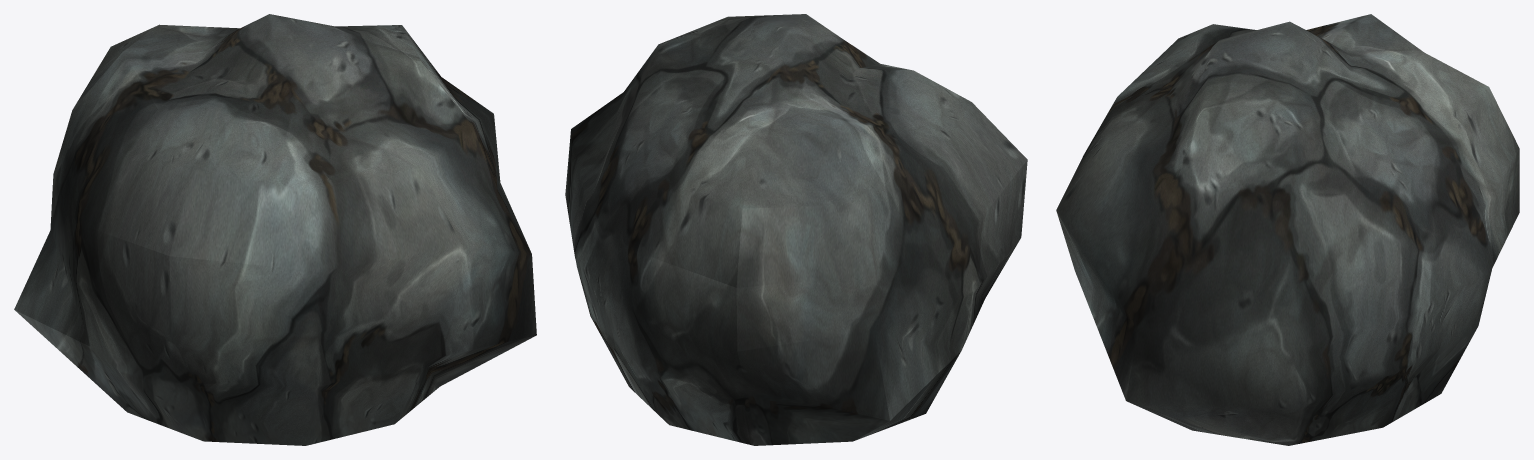
The model's file is RockBoulder2.obj.
3 renders of one model, left to right at view 1: azimuth 30°, elevation 25°; view 2: azimuth 150°, elevation 25°; view 3: azimuth 270°, elevation 25°, orthographic. The views are drawn at different scales.
Visible parts, largest first — view 1: Mesh; view 2: Mesh; view 3: Mesh.
Boxes of the visible parts, left/top/right/bottom form: Mesh: left=14, top=14, right=536, bottom=445; Mesh: left=565, top=14, right=1027, bottom=445; Mesh: left=1056, top=14, right=1519, bottom=445.
Bounding box in the file's own units: 4.01 × 3.32 × 3.94.
